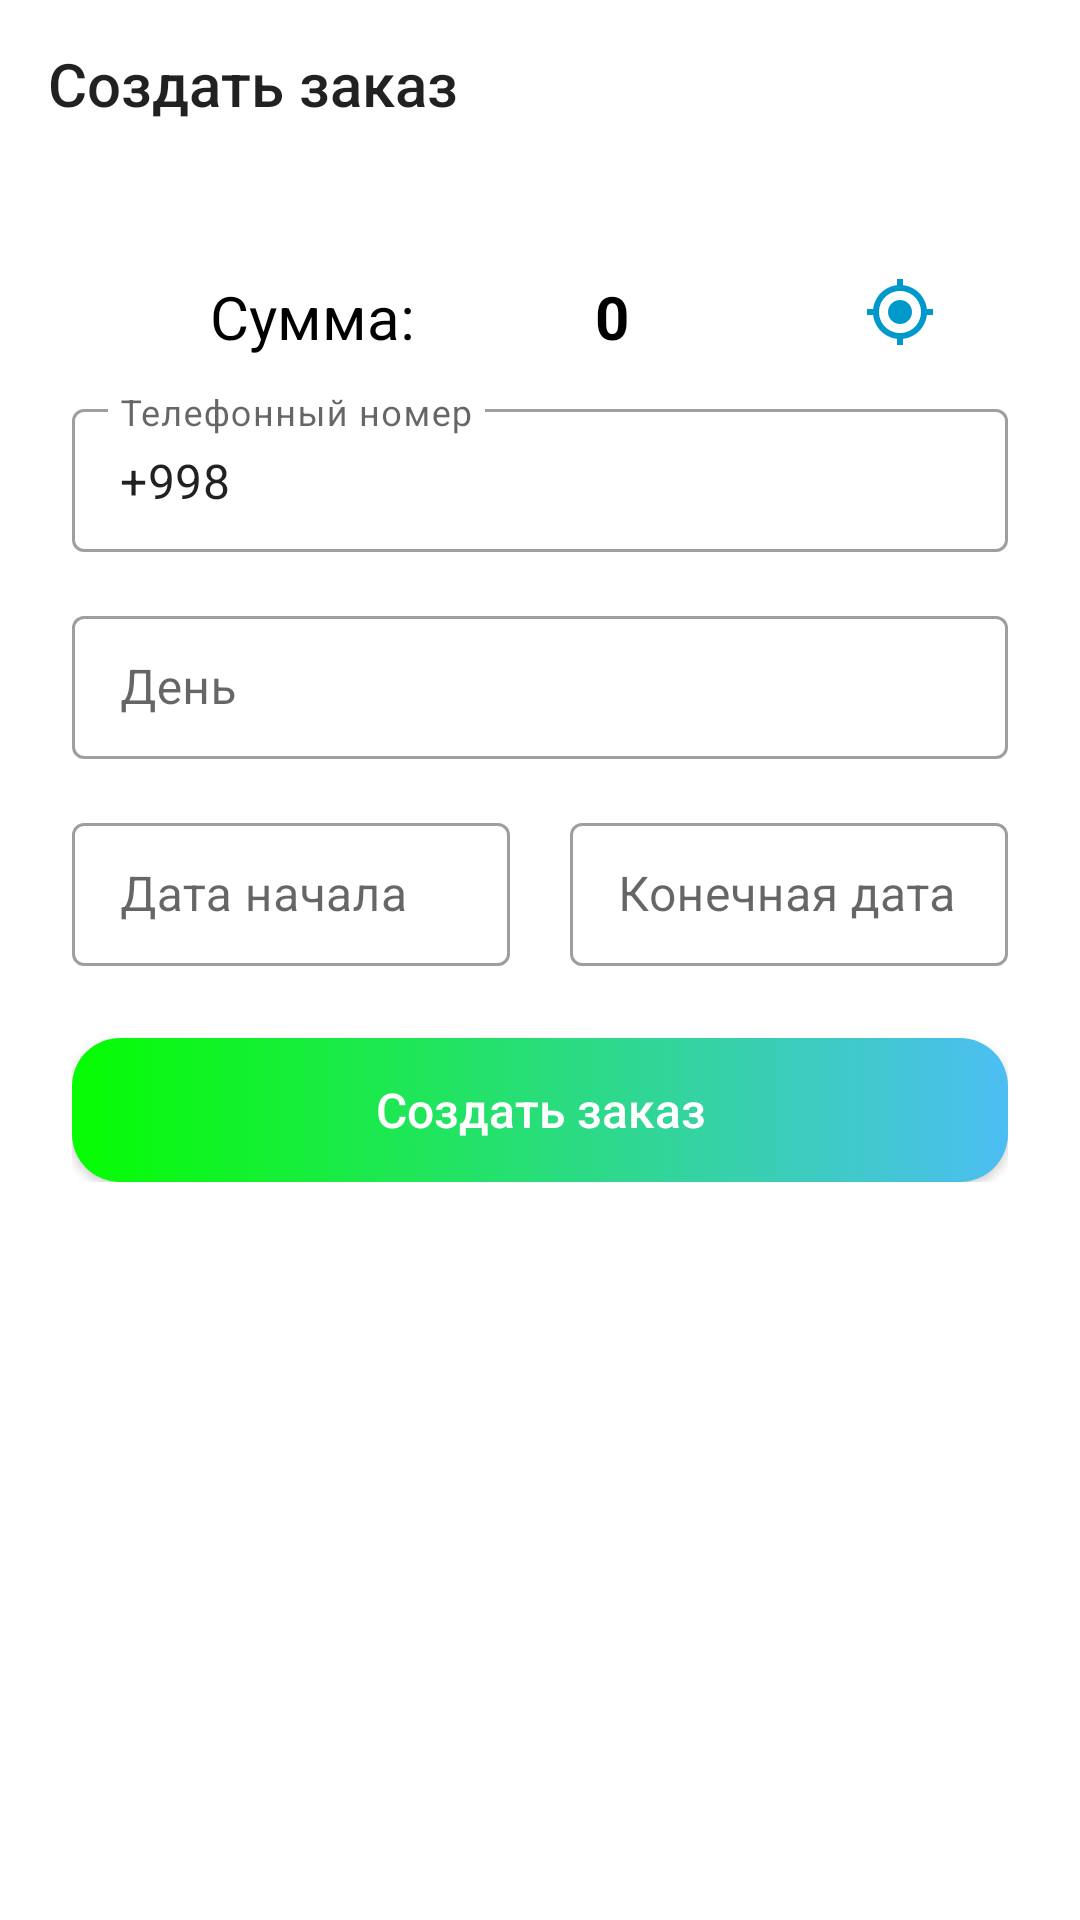

Where icons sit on this 1080x1920 app screen, as (x1, y1, x2, y2):
gps fixed: (867, 279, 933, 345)
